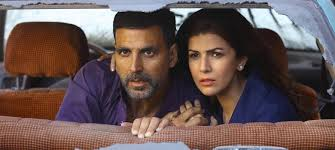Bad: (55, 9, 300, 137)
